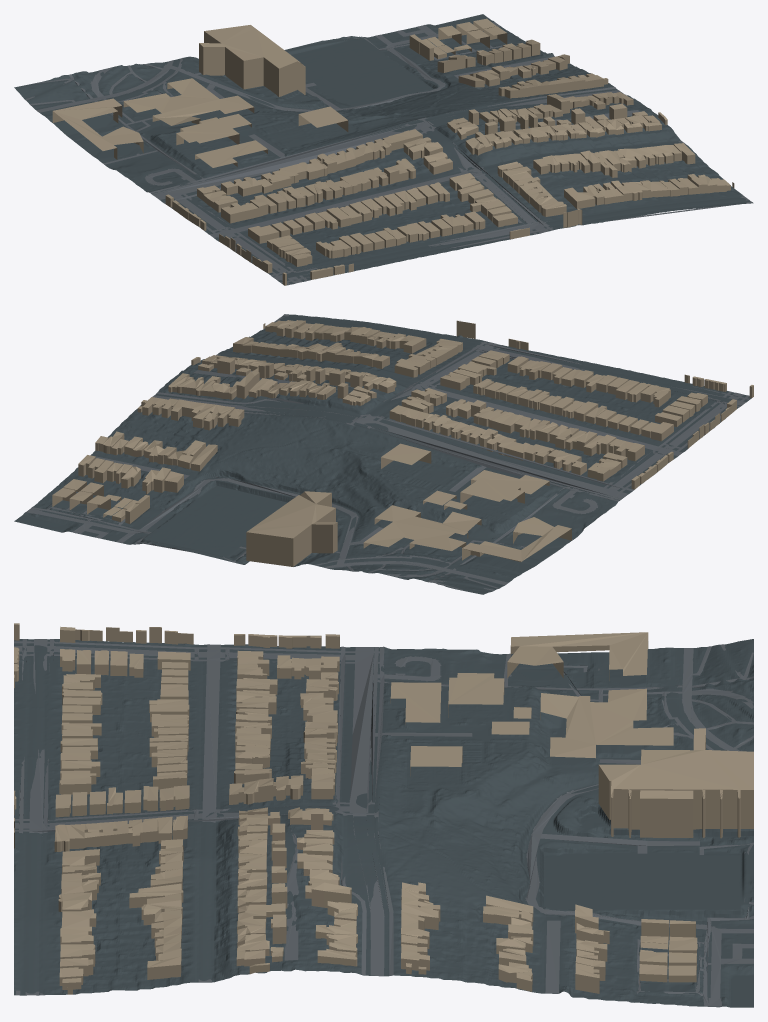
Rendered from epsg26910-1428-10874.lod0.glb.
3 views of the same model, one above another, from view 1: azimuth 30°, elevation 25°; view 2: azimuth 150°, elevation 25°; view 3: azimuth 270°, elevation 25° (orthographic). The views are drawn at different scales.
Parts seen in each view (by area): view 1: epsg26910-1428-10874-lod0; view 2: epsg26910-1428-10874-lod0; view 3: epsg26910-1428-10874-lod0.
Boxes of the visible parts, <box> form: epsg26910-1428-10874-lod0: <box>14,14,753,285</box>; epsg26910-1428-10874-lod0: <box>14,314,753,594</box>; epsg26910-1428-10874-lod0: <box>14,623,753,1007</box>.
Bounding box in the file's own units: 384 × 47.87 × 384.
